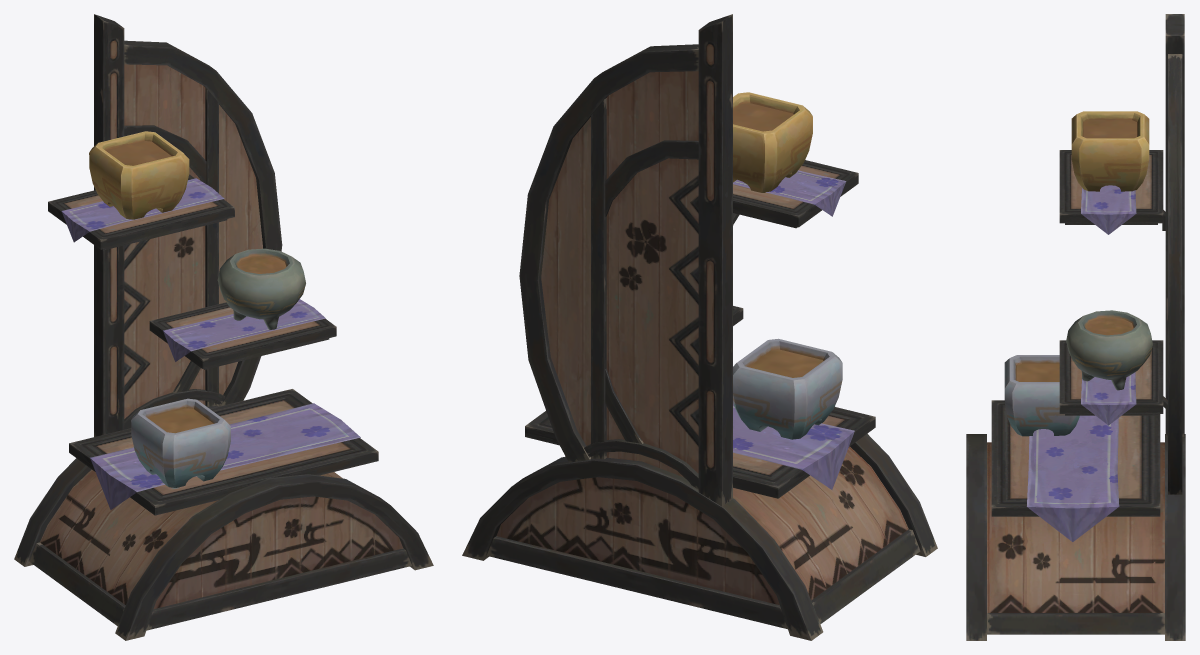
File: Homeworld_Exterior_Common_Prop_Plant_FlowerPot_02_Lod0.fbx
3 views of the same model, side by side, from view 1: azimuth 30°, elevation 25°; view 2: azimuth 150°, elevation 25°; view 3: azimuth 270°, elevation 25° (orthographic). The views are drawn at different scales.
Visible parts, largest first — view 1: Homeworld_Exterior_Common_Prop_Plant_FlowerPot_02_Lod0; view 2: Homeworld_Exterior_Common_Prop_Plant_FlowerPot_02_Lod0; view 3: Homeworld_Exterior_Common_Prop_Plant_FlowerPot_02_Lod0.
Boxes of the visible parts, box(x1,y1,x2,y2) form: Homeworld_Exterior_Common_Prop_Plant_FlowerPot_02_Lod0: box(14, 14, 433, 640); Homeworld_Exterior_Common_Prop_Plant_FlowerPot_02_Lod0: box(462, 14, 937, 640); Homeworld_Exterior_Common_Prop_Plant_FlowerPot_02_Lod0: box(966, 14, 1185, 640).
Bounding box in the file's own units: 1.11 × 1.81 × 0.6955.
